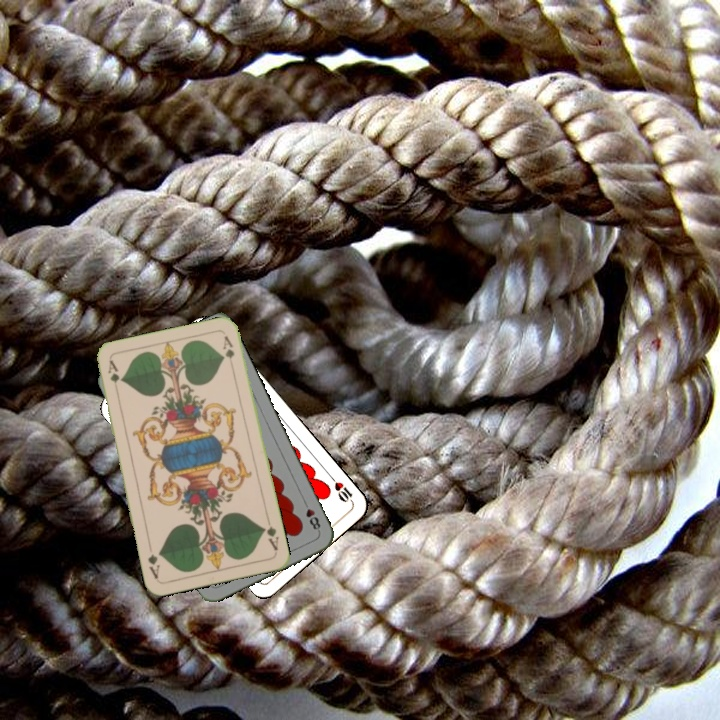GA: (259, 514, 281, 553), (104, 356, 122, 396)
H10: (326, 472, 356, 506)
H8: (299, 496, 323, 535)
